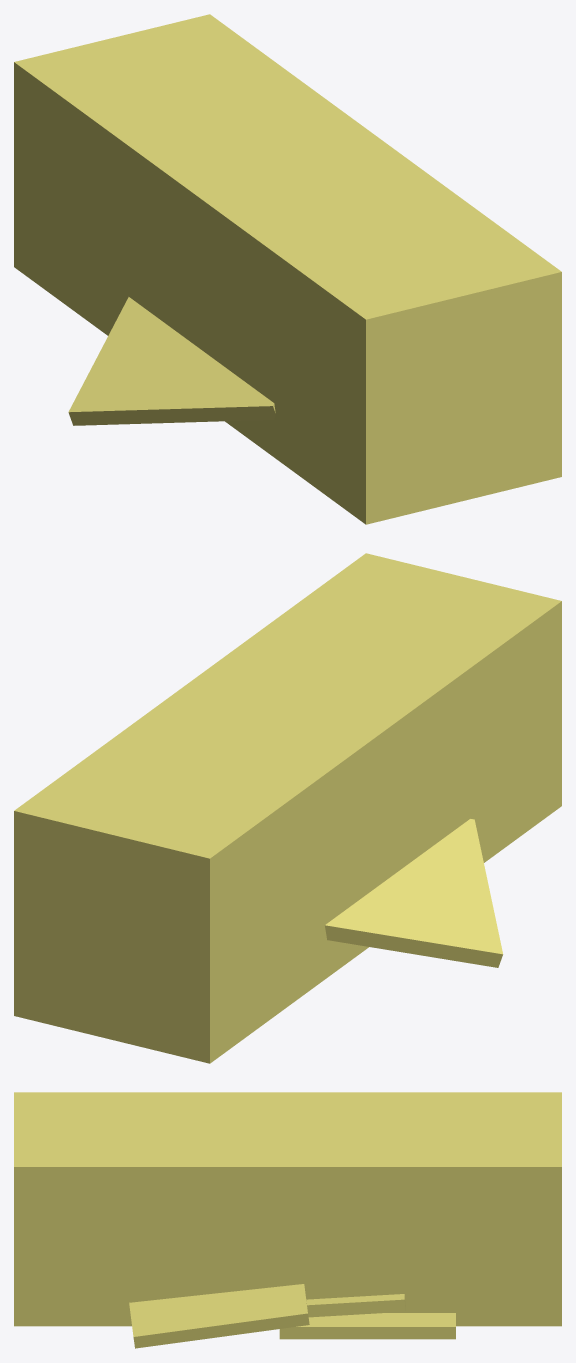
Rendered from butter_Obj.fbx.
The picture shows the model from 3 angles, top to bottom: view 1: azimuth 30°, elevation 25°; view 2: azimuth 150°, elevation 25°; view 3: azimuth 270°, elevation 25°; orthographic projection. The views are drawn at different scales.
Parts seen in each view (by area): view 1: butter, geo_butter_slice4; view 2: butter, geo_butter_slice4; view 3: butter, geo_butter_slice3, geo_butter_slice1, geo_butter_slice2.
Boxes of the visible parts, bbox=[...] form: butter: bbox=[14, 14, 561, 524]; geo_butter_slice4: bbox=[68, 297, 275, 425]; butter: bbox=[14, 553, 561, 1063]; geo_butter_slice4: bbox=[325, 819, 503, 967]; butter: bbox=[14, 1092, 561, 1326]; geo_butter_slice3: bbox=[129, 1284, 309, 1348]; geo_butter_slice1: bbox=[279, 1313, 455, 1339]; geo_butter_slice2: bbox=[306, 1294, 405, 1317].
Size of the model in its own units: 8.56 by 4.37 by 13.36.
